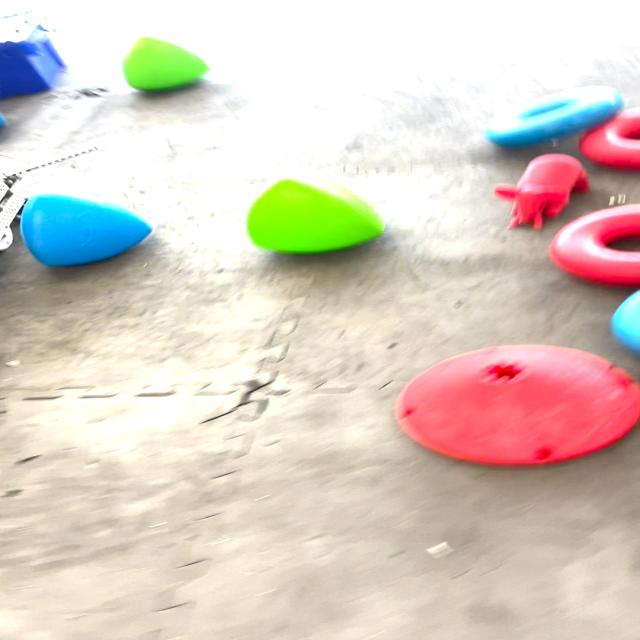Blue-Ring: (484, 85, 624, 148)
Red-Ring: (549, 204, 640, 287), (580, 110, 640, 172)
